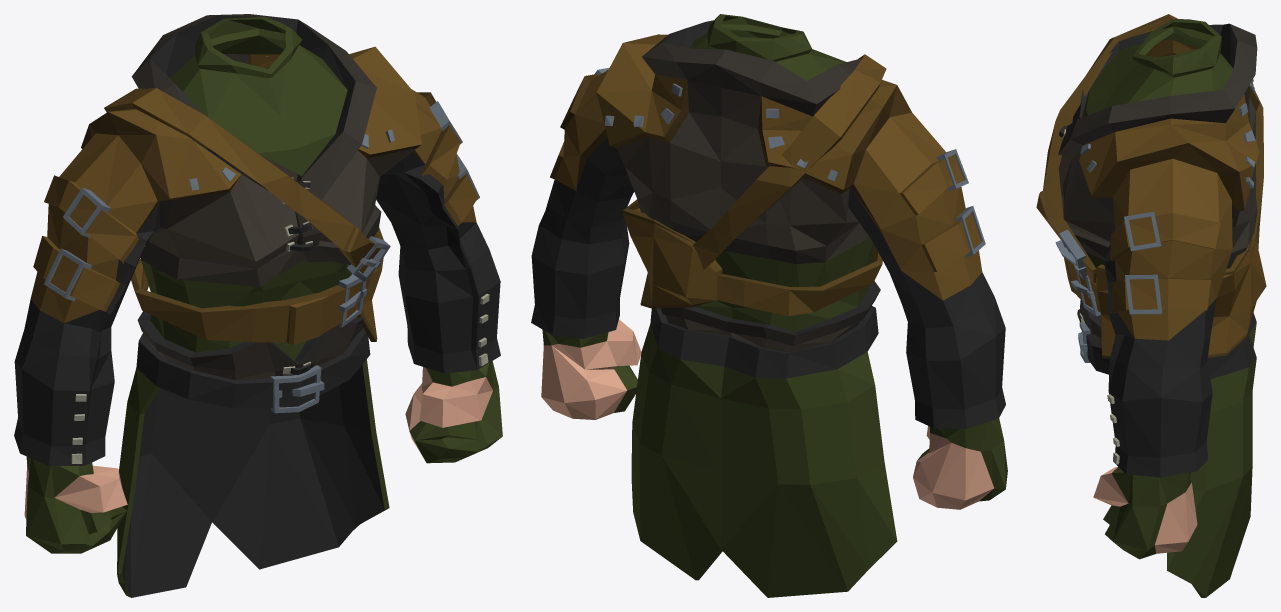
Rendered from LegendaryArcherNobleChestplate.dae.
3 views of the same model, side by side, from view 1: azimuth 30°, elevation 25°; view 2: azimuth 150°, elevation 25°; view 3: azimuth 270°, elevation 25° (orthographic). The views are drawn at different scales.
Parts seen in each view (by area): view 1: Chest; view 2: Chest; view 3: Chest.
Part boxes in pixels (x1,y1,x2,y2): Chest: [14, 14, 502, 597]; Chest: [531, 14, 1007, 597]; Chest: [1036, 14, 1266, 597].
Bounding box in the file's own units: 5.01 × 2.24 × 5.66.
